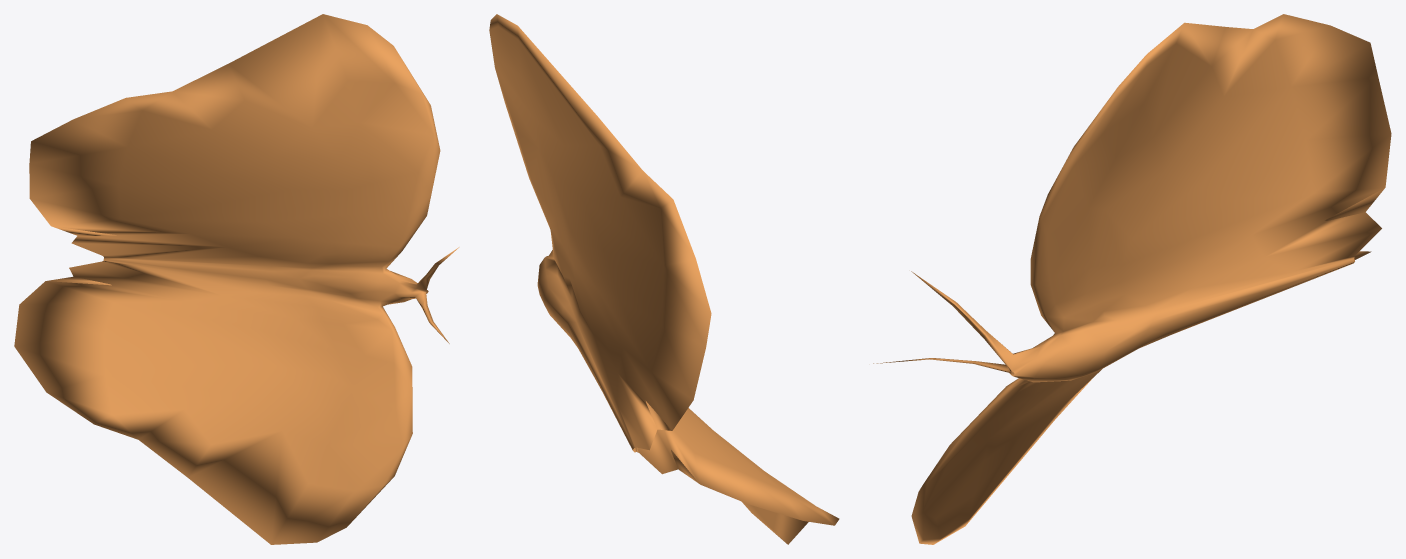
File: mariposa.fbx
3 views of the same model, side by side, from view 1: azimuth 30°, elevation 25°; view 2: azimuth 150°, elevation 25°; view 3: azimuth 270°, elevation 25° (orthographic). The views are drawn at different scales.
Parts seen in each view (by area): view 1: frascomariposa.001; view 2: frascomariposa.001; view 3: frascomariposa.001.
Part boxes in pixels (bbox=[...]): frascomariposa.001: bbox=[14, 14, 459, 544]; frascomariposa.001: bbox=[489, 14, 839, 544]; frascomariposa.001: bbox=[873, 14, 1391, 544].
Bounding box in the file's own units: 8.45 × 10.71 × 8.59.
